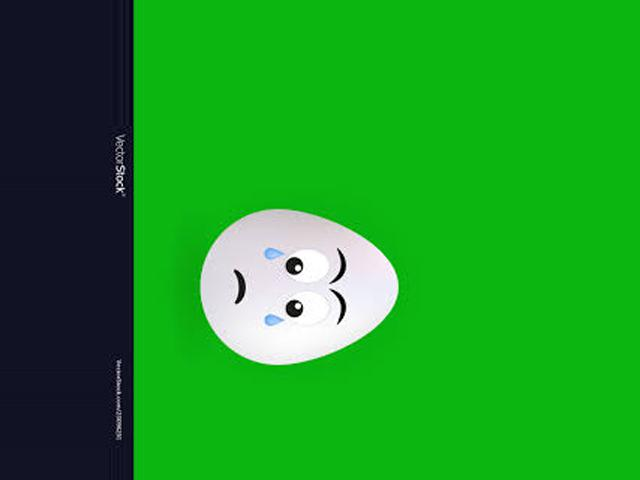egg: (199, 208, 396, 364)
